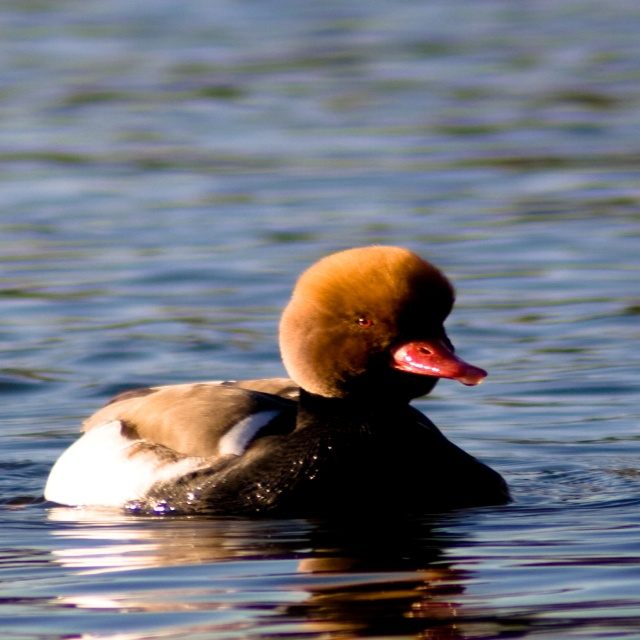Duck: (44, 245, 513, 521)
